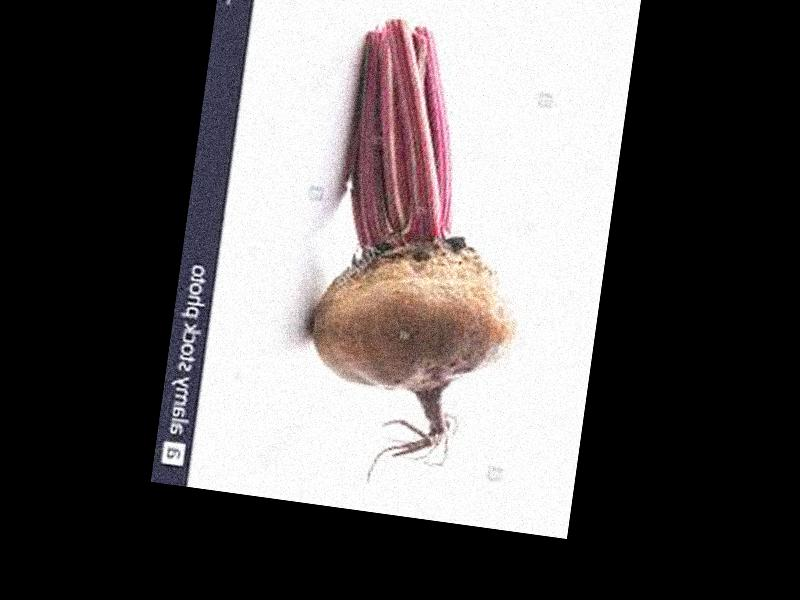Beet: (290, 13, 553, 499)
